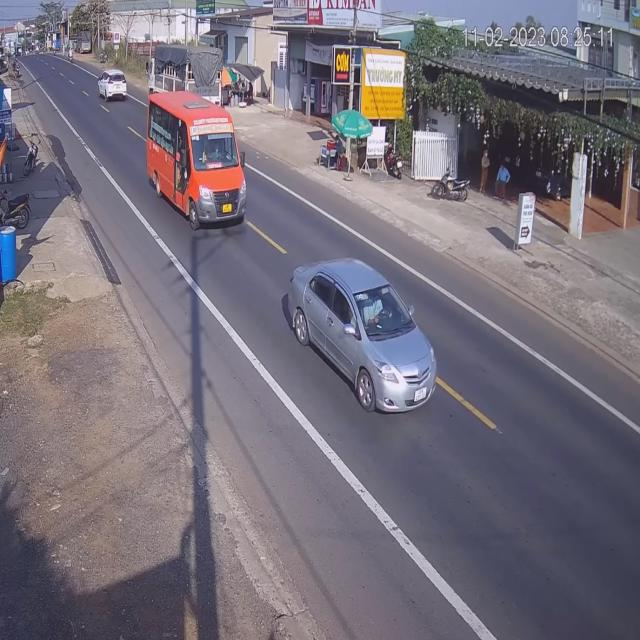car: (290, 259, 442, 416), (98, 68, 128, 104)
motorbike: (319, 138, 336, 170)
truck: (146, 87, 247, 232)
